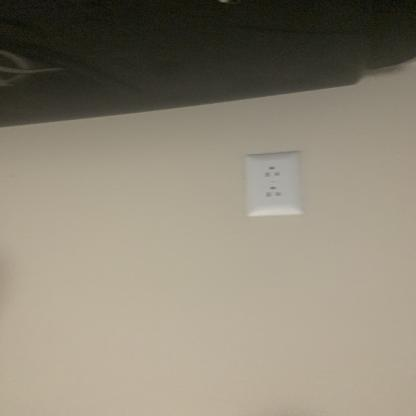OUTLET: (246, 152, 300, 216)
